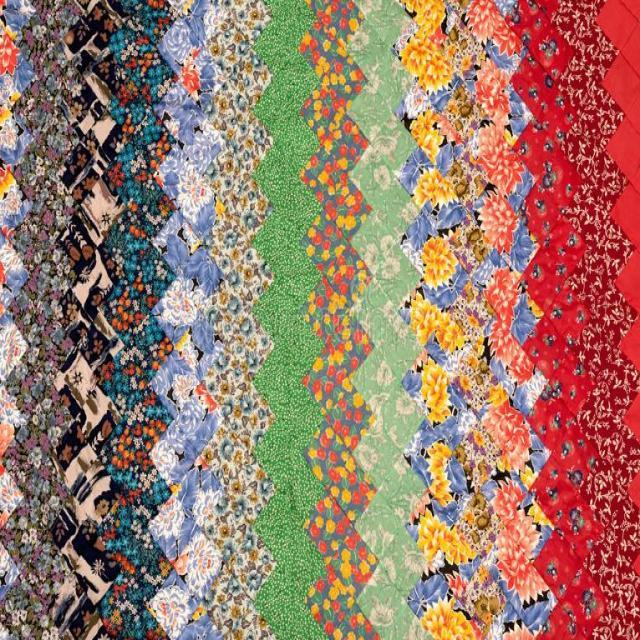clothes: (2, 15, 638, 640)
